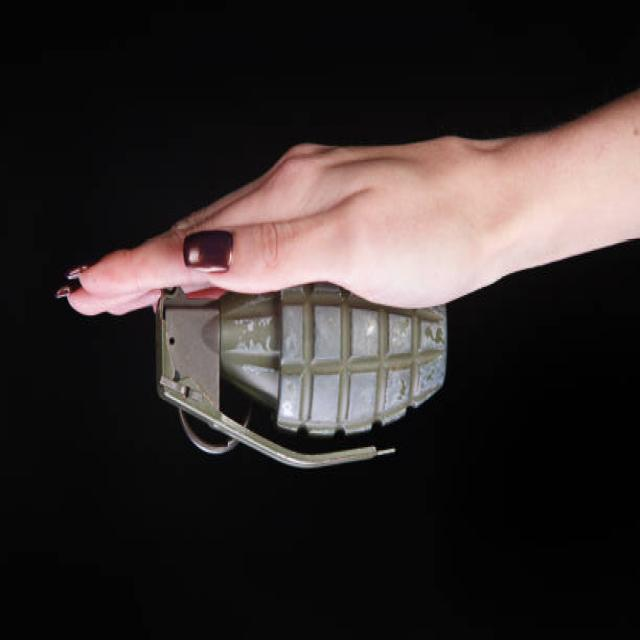grenade: (153, 286, 460, 477)
